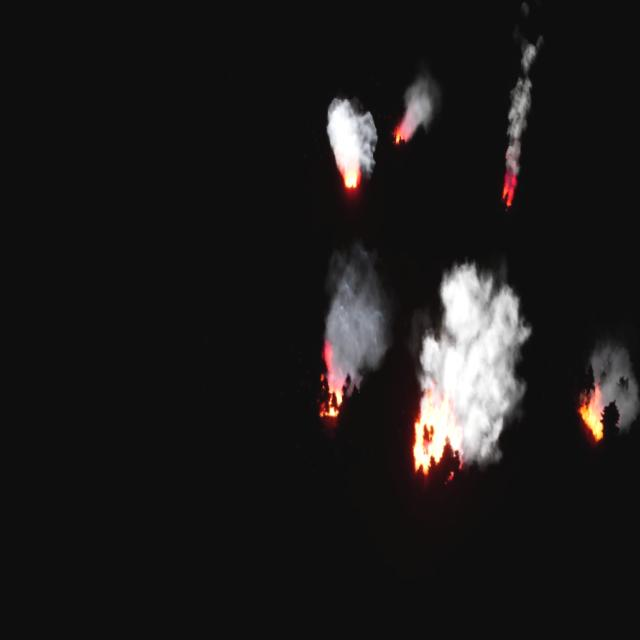fire: (408, 382, 464, 482), (314, 336, 346, 426), (577, 392, 606, 437), (338, 156, 366, 192), (499, 169, 517, 204), (392, 112, 408, 144)
smoke: (421, 250, 542, 490), (322, 241, 391, 387), (500, 50, 550, 160), (322, 86, 382, 176), (592, 344, 640, 436), (402, 67, 438, 126)
